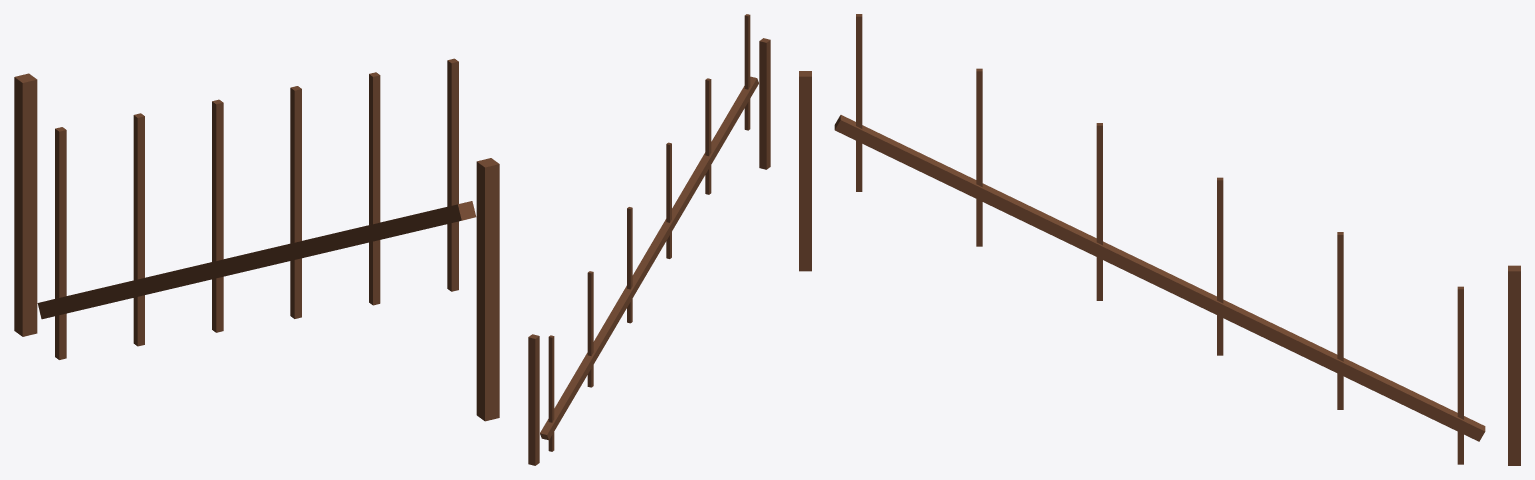
Rendered from SM_P2_Stair_Rail_A.obj.
3 renders of one model, left to right at view 1: azimuth 30°, elevation 25°; view 2: azimuth 150°, elevation 25°; view 3: azimuth 270°, elevation 25°, orthographic. The views are drawn at different scales.
Parts seen in each view (by area): view 1: handrail, newel_low, newel_high, baluster_0, baluster_4, baluster_5, baluster_3, baluster_1, baluster_2; view 2: handrail, newel_high, newel_low, baluster_0, baluster_4, baluster_5, baluster_1, baluster_2, baluster_3; view 3: handrail, newel_low, newel_high, baluster_2, baluster_4, baluster_0, baluster_1, baluster_3, baluster_5.
Part boxes in pixels (x1=…): handrail: x1=37, y1=201, x2=476, y2=319; newel_low: x1=14, y1=73, x2=37, y2=336; newel_high: x1=476, y1=158, x2=499, y2=421; baluster_0: x1=55, y1=127, x2=66, y2=359; baluster_4: x1=369, y1=72, x2=380, y2=305; baluster_5: x1=447, y1=58, x2=458, y2=291; baluster_3: x1=290, y1=86, x2=301, y2=318; baluster_1: x1=133, y1=113, x2=144, y2=346; baluster_2: x1=212, y1=99, x2=223, y2=332; handrail: x1=540, y1=76, x2=758, y2=440; newel_high: x1=759, y1=38, x2=770, y2=169; newel_low: x1=528, y1=334, x2=539, y2=465; baluster_0: x1=548, y1=335, x2=554, y2=451; baluster_4: x1=705, y1=78, x2=711, y2=194; baluster_5: x1=744, y1=14, x2=750, y2=130; baluster_1: x1=587, y1=271, x2=593, y2=387; baluster_2: x1=627, y1=207, x2=632, y2=323; baluster_3: x1=666, y1=142, x2=671, y2=258; handrail: x1=834, y1=115, x2=1485, y2=441; newel_low: x1=1508, y1=265, x2=1520, y2=465; newel_high: x1=799, y1=71, x2=811, y2=271; baluster_2: x1=1217, y1=177, x2=1223, y2=355; baluster_4: x1=976, y1=68, x2=982, y2=246; baluster_0: x1=1457, y1=286, x2=1463, y2=464; baluster_1: x1=1337, y1=232, x2=1343, y2=409; baluster_3: x1=1096, y1=123, x2=1102, y2=300; baluster_5: x1=856, y1=14, x2=862, y2=191.
Size of the model in its own units: 0.06 by 2.3 by 3.36.
